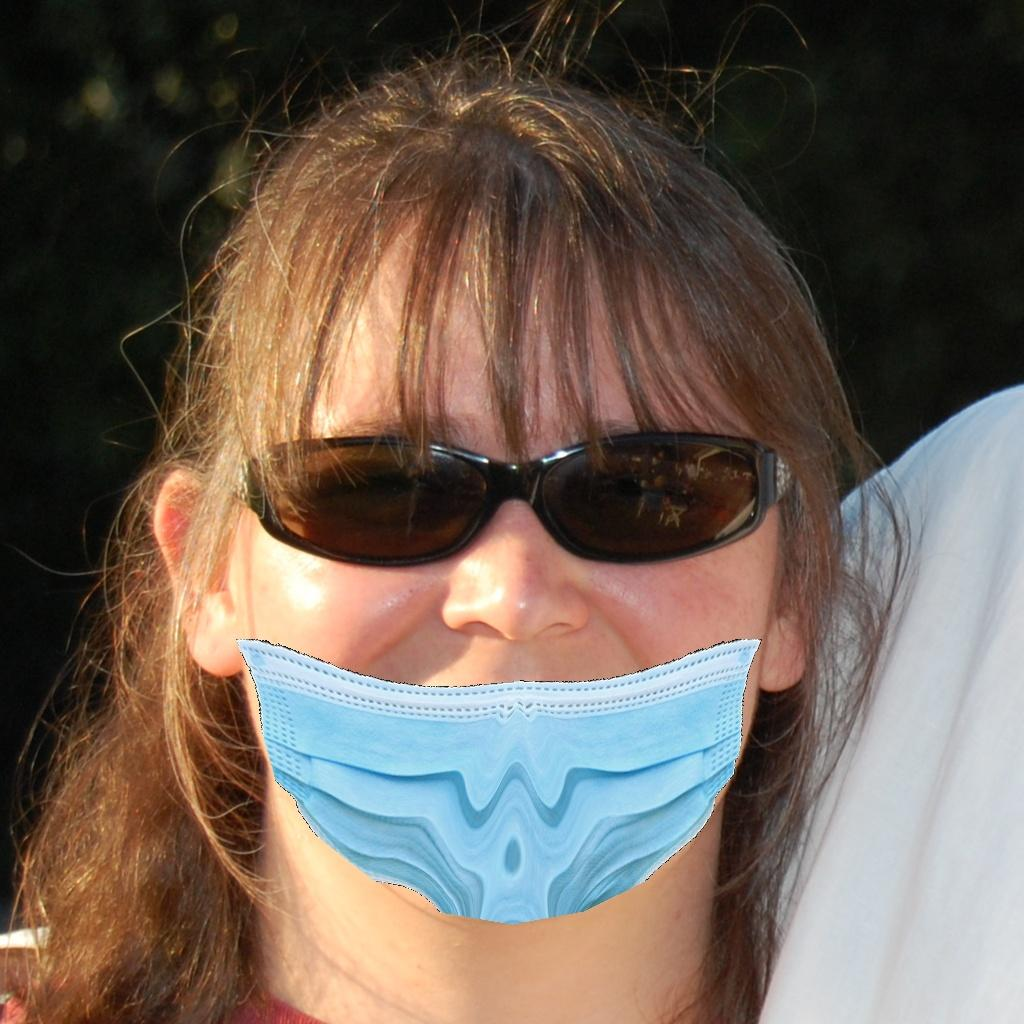Máscara Incorreta: (216, 330, 819, 912)
